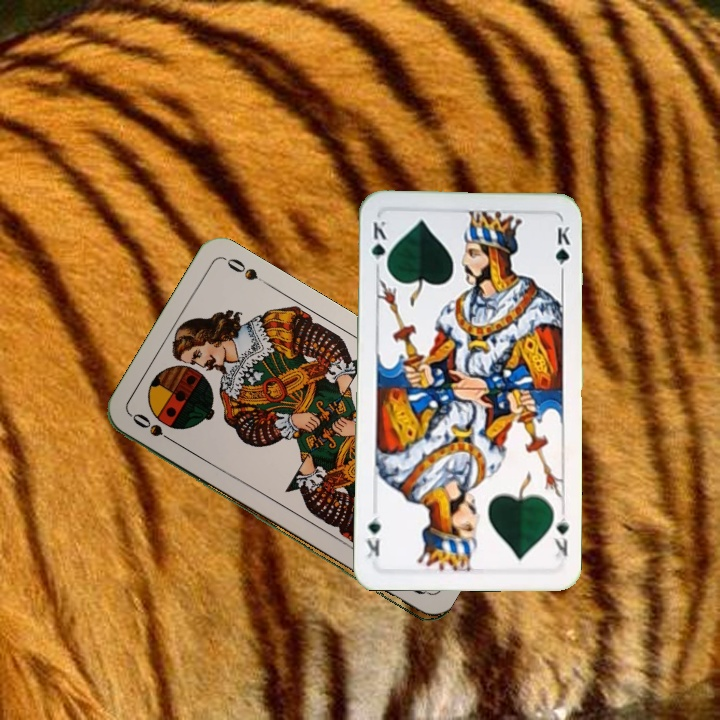GK: (367, 217, 390, 274), (550, 513, 571, 563)
SO: (128, 409, 181, 448)
